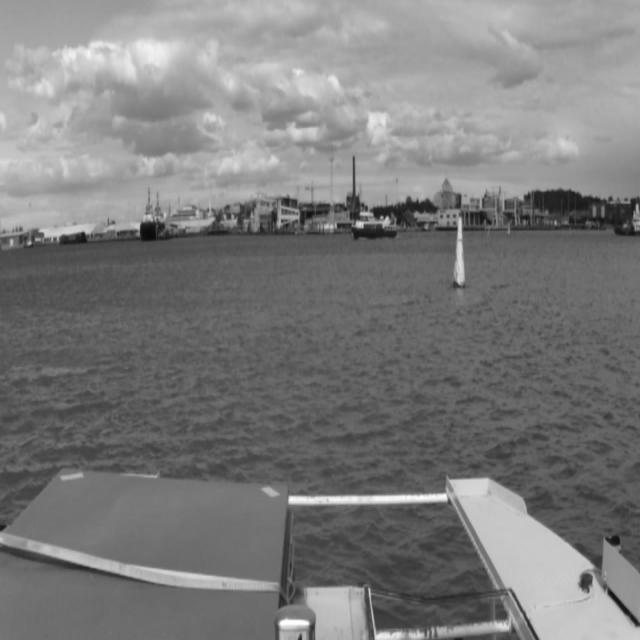buoy: (451, 211, 467, 294), (507, 220, 511, 238), (486, 224, 491, 238)
ship: (161, 198, 217, 232), (348, 207, 400, 242), (610, 200, 640, 240)
